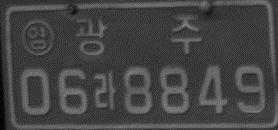0: (19, 68, 51, 115)
4: (197, 65, 228, 113)
6: (57, 68, 88, 115)
8: (158, 66, 189, 114), (123, 65, 152, 115)
9: (234, 64, 266, 114)
광주_D: (75, 14, 202, 56)
라: (92, 69, 118, 111)
영: (20, 19, 55, 56)
